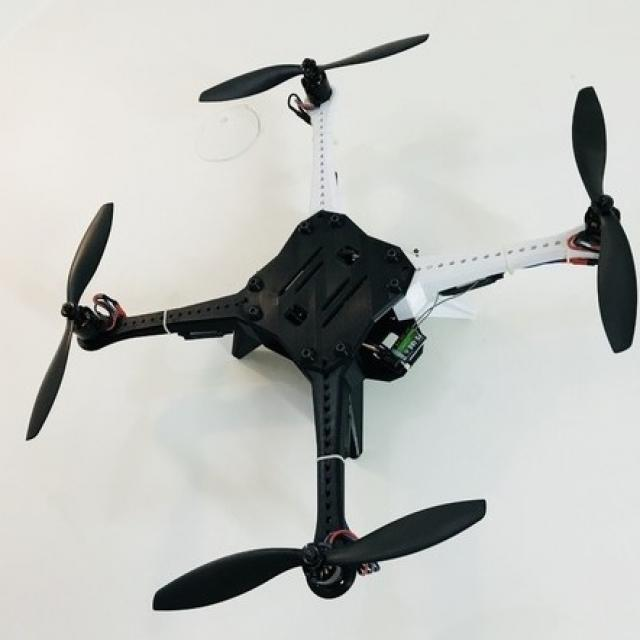drone: (7, 15, 640, 635)
